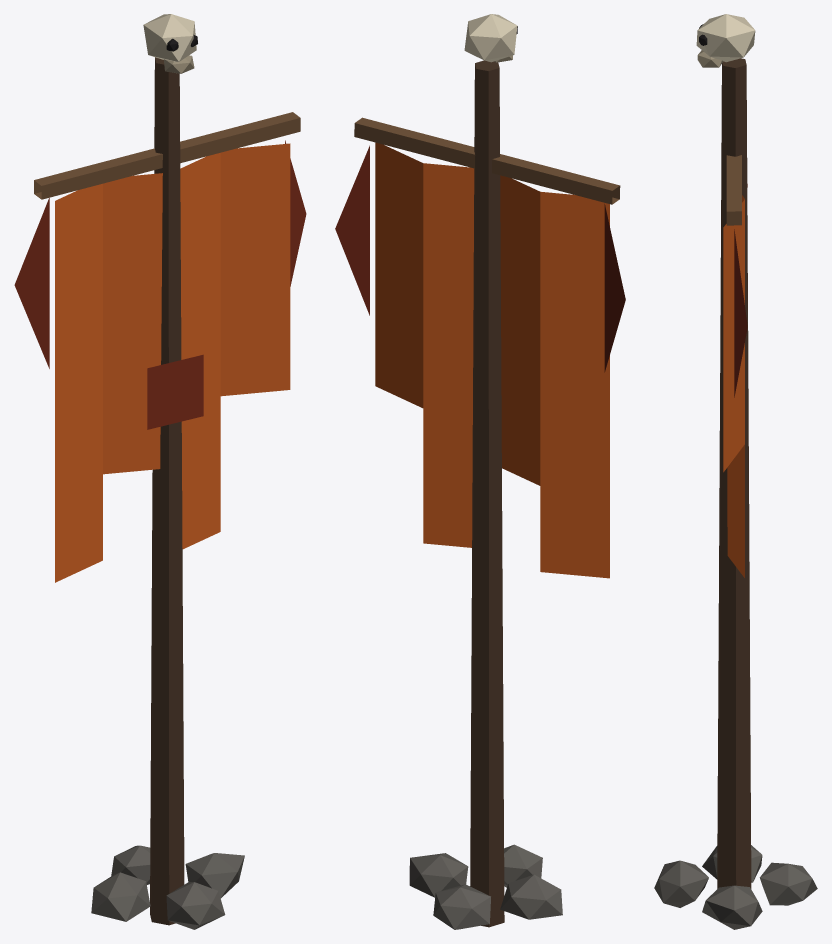
Rendered from goblin_banner.glb.
3 views of the same model, side by side, from view 1: azimuth 30°, elevation 25°; view 2: azimuth 150°, elevation 25°; view 3: azimuth 270°, elevation 25° (orthographic).
Visible parts, largest first — view 1: goblin_banner; view 2: goblin_banner; view 3: goblin_banner.
Boxes of the visible parts, x1,y1,x2,y2 form: goblin_banner: [14, 14, 306, 929]; goblin_banner: [335, 14, 625, 929]; goblin_banner: [654, 14, 817, 929].
Bounding box in the file's own units: 1.24 × 3.68 × 0.605.
1 material, 1 textured.
